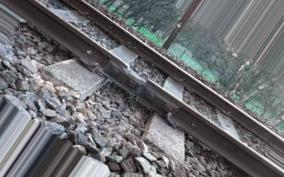tracks_fault: (116, 58, 155, 110)
